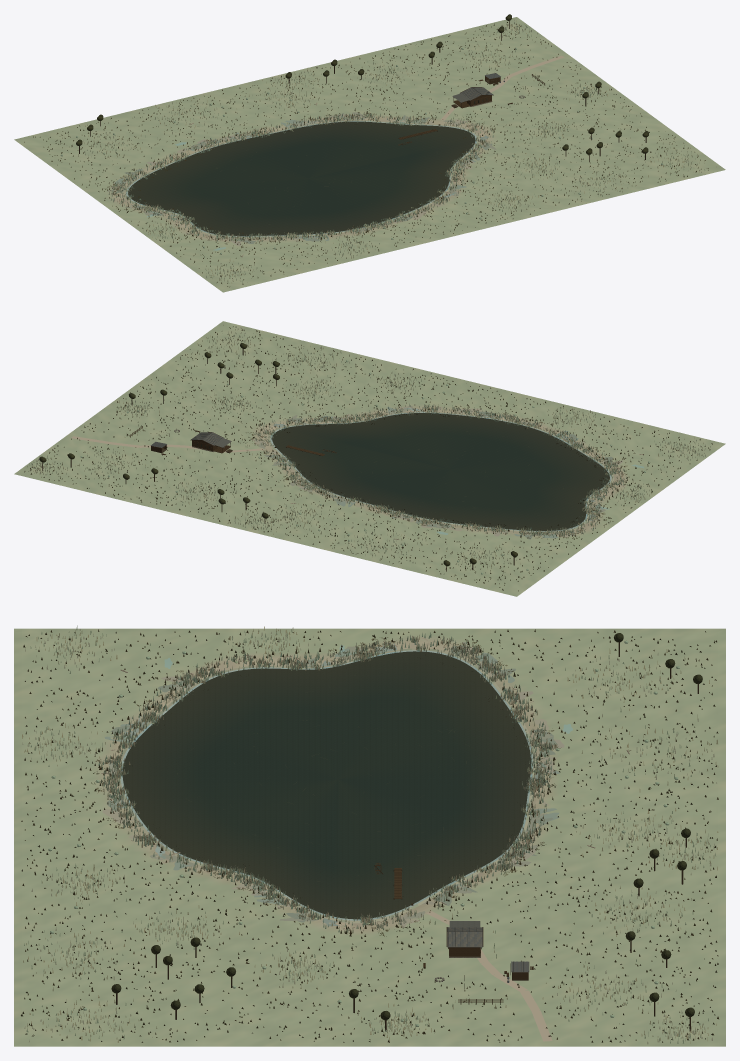
File: LRP01.gltf
3 views of the same model, one above another, from view 1: azimuth 30°, elevation 25°; view 2: azimuth 150°, elevation 25°; view 3: azimuth 270°, elevation 25° (orthographic). The views are drawn at different scales.
Parts seen in each view (by area): view 1: LRP01_TERRENO_PAMPA_250x180, R03_AGUA_VARIACAO_BATIMETRICA_PREVIA_NAO_SHADER, LRP01_GRAMINEAS_CAMPO_VARIANTES, LRP01_TABOAS_JUNCOS_BANHADO, R02_CAMPO_NATIVO_MACICOS_1, R02_CAMPO_NATIVO_MACICOS_2, R02_CAMPO_NATIVO_MACICOS_4, R02_CAMPO_NATIVO_MACICOS_3, LRP01_MARGEM_TRANSICAO_ORGANICA, R02_BANHADO_JUNCOS_AGRUPADOS_2, R02_BANHADO_JUNCOS_AGRUPADOS_1, R02_BANHADO_JUNCOS_AGRUPADOS_3 (+6 smaller); view 2: LRP01_TERRENO_PAMPA_250x180, R03_AGUA_VARIACAO_BATIMETRICA_PREVIA_NAO_SHADER, LRP01_GRAMINEAS_CAMPO_VARIANTES, LRP01_TABOAS_JUNCOS_BANHADO, R02_CAMPO_NATIVO_MACICOS_1, R02_CAMPO_NATIVO_MACICOS_2, R02_CAMPO_NATIVO_MACICOS_4, R02_CAMPO_NATIVO_MACICOS_3, LRP01_MARGEM_TRANSICAO_ORGANICA, R02_BANHADO_JUNCOS_AGRUPADOS_2, R02_BANHADO_JUNCOS_AGRUPADOS_3, R02_BANHADO_JUNCOS_AGRUPADOS_1 (+4 smaller); view 3: LRP01_TERRENO_PAMPA_250x180, R03_AGUA_VARIACAO_BATIMETRICA_PREVIA_NAO_SHADER, LRP01_GRAMINEAS_CAMPO_VARIANTES, LRP01_TABOAS_JUNCOS_BANHADO, R02_CAMPO_NATIVO_MACICOS_1, R02_CAMPO_NATIVO_MACICOS_2, R02_CAMPO_NATIVO_MACICOS_4, R02_CAMPO_NATIVO_MACICOS_3, LRP01_MARGEM_TRANSICAO_ORGANICA, R02_BANHADO_JUNCOS_AGRUPADOS_2, R02_BANHADO_JUNCOS_AGRUPADOS_3, R02_BANHADO_JUNCOS_AGRUPADOS_1 (+11 smaller).
Boxes of the visible parts, left/top/right/bottom form: LRP01_TERRENO_PAMPA_250x180: left=14, top=17, right=725, bottom=292; R03_AGUA_VARIACAO_BATIMETRICA_PREVIA_NAO_SHADER: left=128, top=121, right=475, bottom=236; LRP01_GRAMINEAS_CAMPO_VARIANTES: left=24, top=22, right=708, bottom=287; LRP01_TABOAS_JUNCOS_BANHADO: left=108, top=113, right=493, bottom=241; R02_CAMPO_NATIVO_MACICOS_1: left=60, top=20, right=699, bottom=283; R02_CAMPO_NATIVO_MACICOS_2: left=68, top=22, right=705, bottom=284; R02_CAMPO_NATIVO_MACICOS_4: left=64, top=24, right=704, bottom=281; R02_CAMPO_NATIVO_MACICOS_3: left=66, top=19, right=716, bottom=282; LRP01_MARGEM_TRANSICAO_ORGANICA: left=123, top=120, right=479, bottom=237; R02_BANHADO_JUNCOS_AGRUPADOS_2: left=113, top=111, right=487, bottom=242; R02_BANHADO_JUNCOS_AGRUPADOS_1: left=113, top=112, right=484, bottom=240; R02_BANHADO_JUNCOS_AGRUPADOS_3: left=111, top=113, right=485, bottom=239; LRP01_TERRENO_PAMPA_250x180: left=14, top=321, right=725, bottom=596; R03_AGUA_VARIACAO_BATIMETRICA_PREVIA_NAO_SHADER: left=272, top=413, right=609, bottom=530; LRP01_GRAMINEAS_CAMPO_VARIANTES: left=28, top=326, right=712, bottom=591; LRP01_TABOAS_JUNCOS_BANHADO: left=258, top=404, right=626, bottom=537; R02_CAMPO_NATIVO_MACICOS_1: left=25, top=330, right=704, bottom=576; R02_CAMPO_NATIVO_MACICOS_2: left=29, top=326, right=710, bottom=569; R02_CAMPO_NATIVO_MACICOS_4: left=33, top=331, right=702, bottom=578; R02_CAMPO_NATIVO_MACICOS_3: left=24, top=324, right=705, bottom=573; LRP01_MARGEM_TRANSICAO_ORGANICA: left=267, top=411, right=614, bottom=532; R02_BANHADO_JUNCOS_AGRUPADOS_2: left=267, top=404, right=621, bottom=536; R02_BANHADO_JUNCOS_AGRUPADOS_3: left=265, top=404, right=622, bottom=536; R02_BANHADO_JUNCOS_AGRUPADOS_1: left=263, top=406, right=621, bottom=535; LRP01_TERRENO_PAMPA_250x180: left=14, top=628, right=725, bottom=1046; R03_AGUA_VARIACAO_BATIMETRICA_PREVIA_NAO_SHADER: left=122, top=651, right=530, bottom=919; LRP01_GRAMINEAS_CAMPO_VARIANTES: left=21, top=629, right=718, bottom=1042; LRP01_TABOAS_JUNCOS_BANHADO: left=98, top=632, right=551, bottom=933; R02_CAMPO_NATIVO_MACICOS_1: left=22, top=626, right=718, bottom=1043; R02_CAMPO_NATIVO_MACICOS_2: left=24, top=625, right=716, bottom=1043; R02_CAMPO_NATIVO_MACICOS_4: left=23, top=629, right=717, bottom=1041; R02_CAMPO_NATIVO_MACICOS_3: left=22, top=627, right=716, bottom=1044; LRP01_MARGEM_TRANSICAO_ORGANICA: left=118, top=648, right=536, bottom=923; R02_BANHADO_JUNCOS_AGRUPADOS_2: left=102, top=637, right=550, bottom=925; R02_BANHADO_JUNCOS_AGRUPADOS_3: left=108, top=635, right=547, bottom=925; R02_BANHADO_JUNCOS_AGRUPADOS_1: left=107, top=636, right=548, bottom=925.
Bounding box in the file's own units: 250 × 7.38 × 180.
6 materials, 4 textured.
